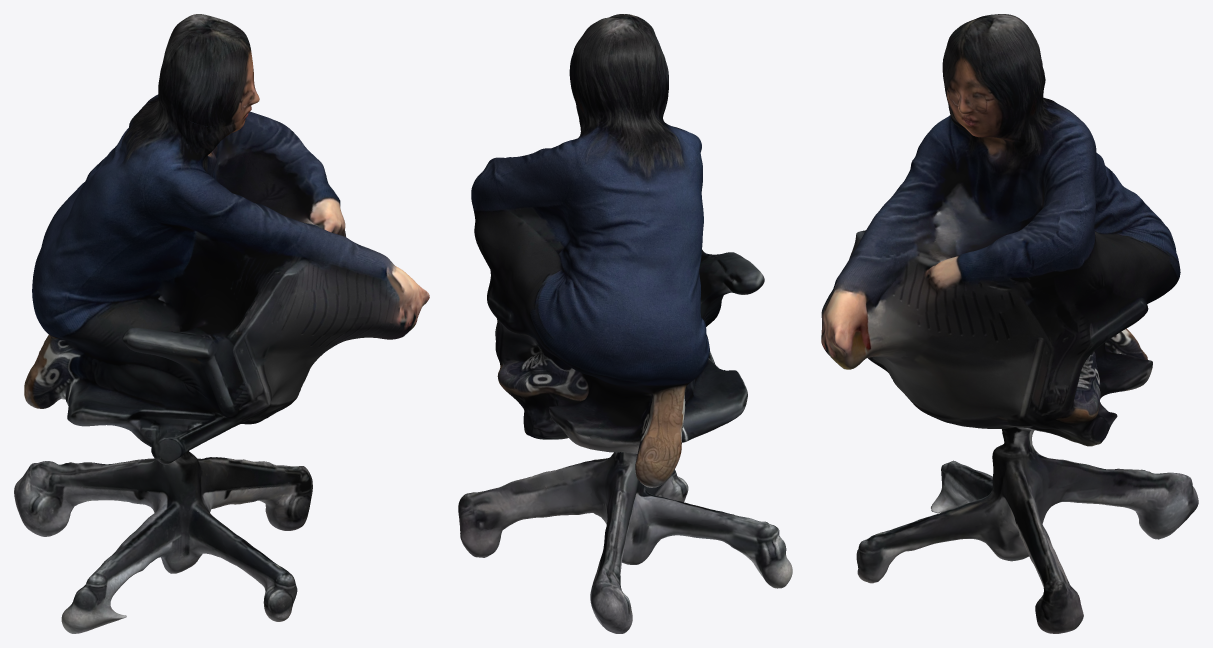
File: Amber_Fixed.fbx
3 views of the same model, side by side, from view 1: azimuth 30°, elevation 25°; view 2: azimuth 150°, elevation 25°; view 3: azimuth 270°, elevation 25° (orthographic). The views are drawn at different scales.
Visible parts, largest first — view 1: Object; view 2: Object; view 3: Object.
Boxes of the visible parts, bbox=[...] form: Object: bbox=[14, 14, 429, 633]; Object: bbox=[458, 14, 792, 633]; Object: bbox=[821, 14, 1198, 633].
Bounding box in the file's own units: 48 × 85.45 × 51.56.
